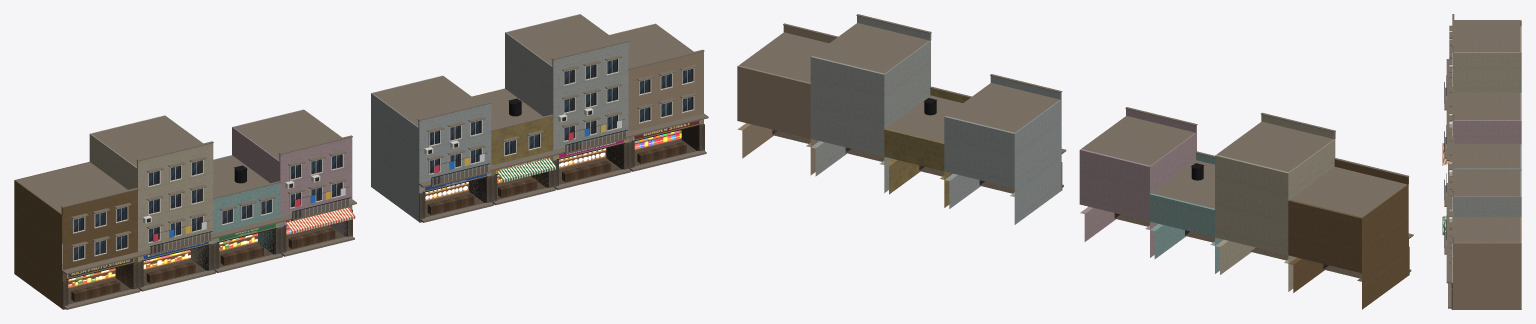
Rendered from row.glb.
The picture shows the model from 3 angles, left to right: view 1: azimuth 30°, elevation 25°; view 2: azimuth 150°, elevation 25°; view 3: azimuth 270°, elevation 25°; orthographic projection. The views are drawn at different scales.
Parts seen in each view (by area): view 1: row_2, row_26, row_28, row_34, row_23, row_11, row_0, row_9, row_7, row_12, row_36, row_4 (+10 smaller); view 2: row_2, row_34, row_26, row_28, row_23, row_0, row_36, row_31, row_19, row_5; view 3: row_2, row_36, row_23, row_0, row_34, row_28, row_18, row_9, row_12, row_10, row_33, row_13.
Boxes of the visible parts, box(x1,y1,x2,y2) form: row_2: box(16, 14, 708, 309); row_26: box(14, 162, 137, 308); row_28: box(371, 75, 491, 221); row_34: box(505, 14, 628, 167); row_23: box(89, 115, 213, 270); row_11: box(73, 59, 692, 259); row_0: box(232, 109, 352, 236); row_9: box(66, 59, 700, 279); row_7: box(71, 142, 686, 301); row_12: box(72, 58, 694, 261); row_36: box(609, 23, 703, 150); row_4: box(73, 59, 698, 286); row_2: box(739, 14, 1413, 272); row_34: box(810, 16, 931, 192); row_26: box(1288, 160, 1408, 309); row_28: box(944, 76, 1061, 224); row_23: box(1215, 114, 1335, 291); row_0: box(1079, 109, 1196, 257); row_36: box(737, 25, 835, 175); row_31: box(884, 88, 969, 207); row_19: box(1150, 153, 1223, 273); row_5: box(772, 131, 1361, 278); row_2: box(1444, 14, 1520, 308); row_36: box(1452, 217, 1521, 309); row_23: box(1452, 26, 1521, 92); row_0: box(1452, 96, 1521, 144); row_34: box(1452, 170, 1521, 216); row_28: box(1452, 144, 1521, 170); row_18: box(1449, 65, 1452, 222); row_9: box(1444, 82, 1452, 287); row_12: box(1452, 52, 1452, 274); row_10: box(1442, 143, 1449, 165); row_33: box(1442, 215, 1446, 235); row_13: box(1446, 75, 1446, 239).
Bounding box in the file's own units: 76.7 × 14.87 × 11.5.
Materials: 38 (38 with a texture image).
